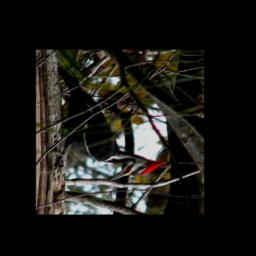Woodpecker: (51, 62, 166, 182)
